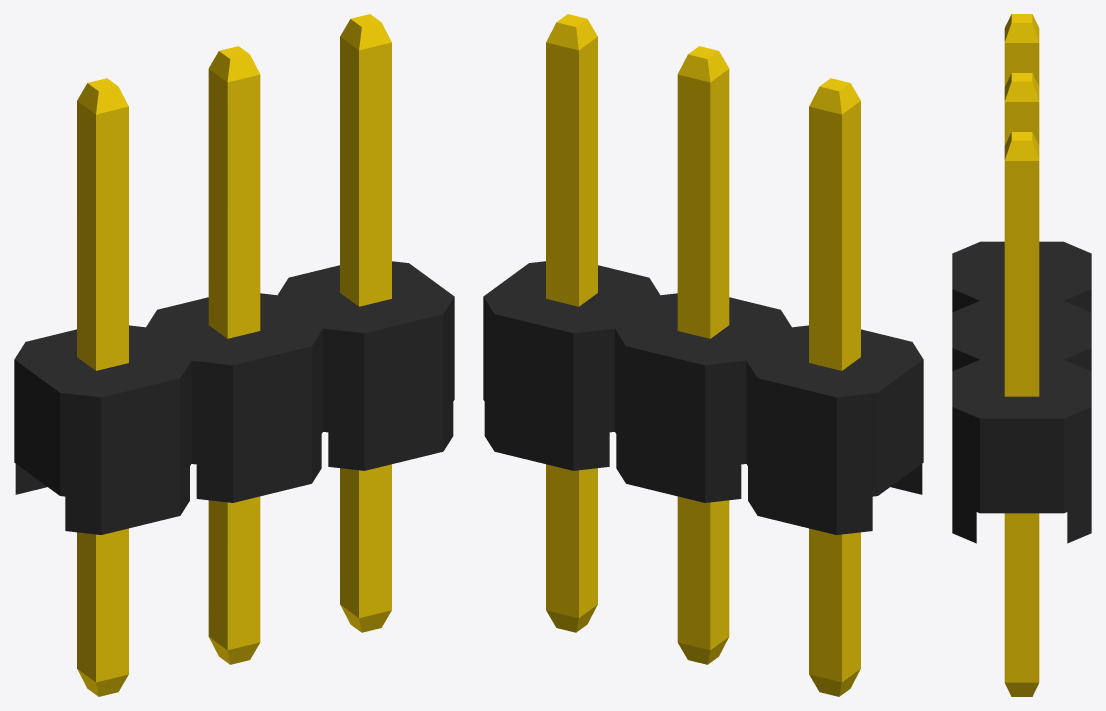
Rendered from PLS2-3.glb.
3 renders of one model, left to right at view 1: azimuth 30°, elevation 25°; view 2: azimuth 150°, elevation 25°; view 3: azimuth 270°, elevation 25°, orthographic. The views are drawn at different scales.
Parts seen in each view (by area): view 1: PLS2 (DS1025-01 CONNFLY); view 2: PLS2 (DS1025-01 CONNFLY); view 3: PLS2 (DS1025-01 CONNFLY).
Part boxes in pixels (bbox=[...]): PLS2 (DS1025-01 CONNFLY): bbox=[14, 14, 454, 696]; PLS2 (DS1025-01 CONNFLY): bbox=[483, 14, 923, 696]; PLS2 (DS1025-01 CONNFLY): bbox=[952, 14, 1091, 696].
Bounding box in the file's own units: 0.006 × 0.0088 × 0.002.
